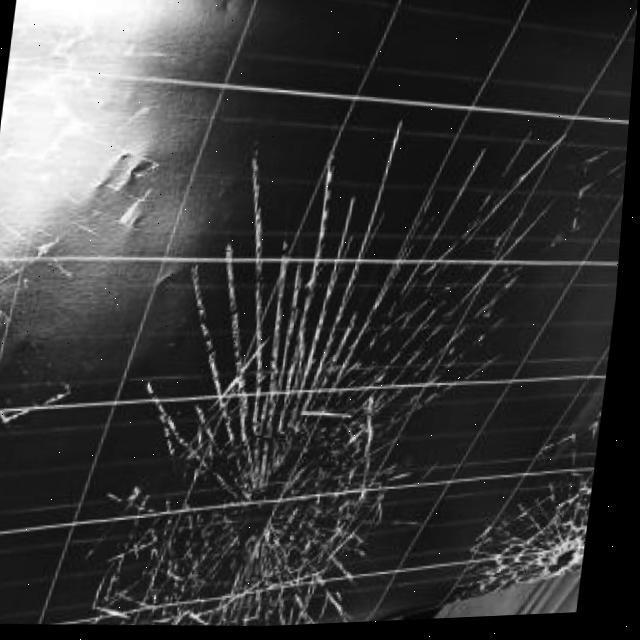Structural Damage: (188, 234, 457, 469), (99, 429, 347, 575), (151, 515, 367, 625), (478, 475, 593, 598)
